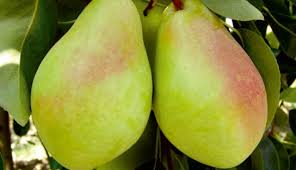pear: (146, 4, 270, 170), (34, 1, 151, 167)
